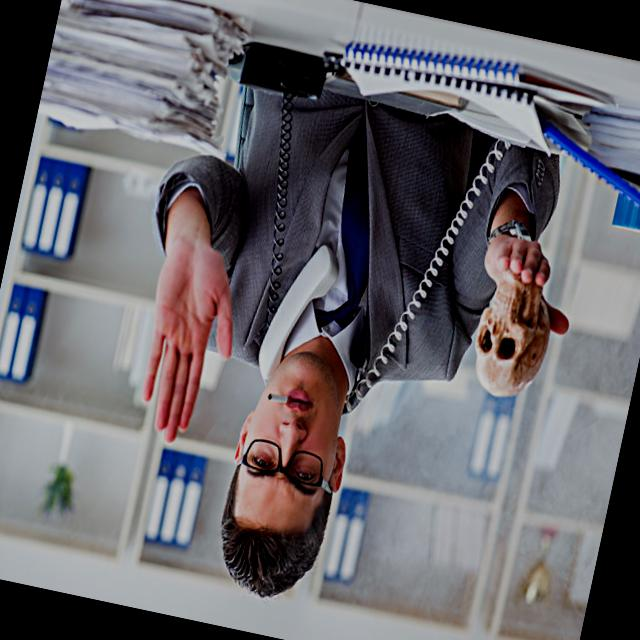smoke: (260, 384, 290, 414)
